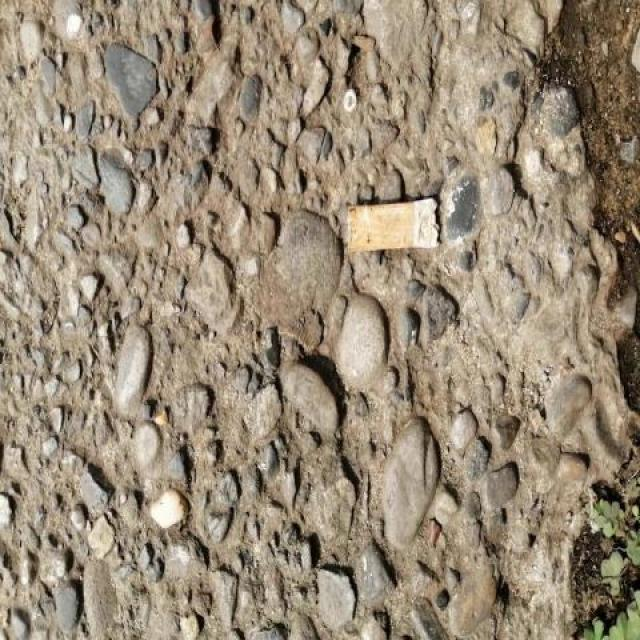non-organic waste: (343, 188, 446, 253)
